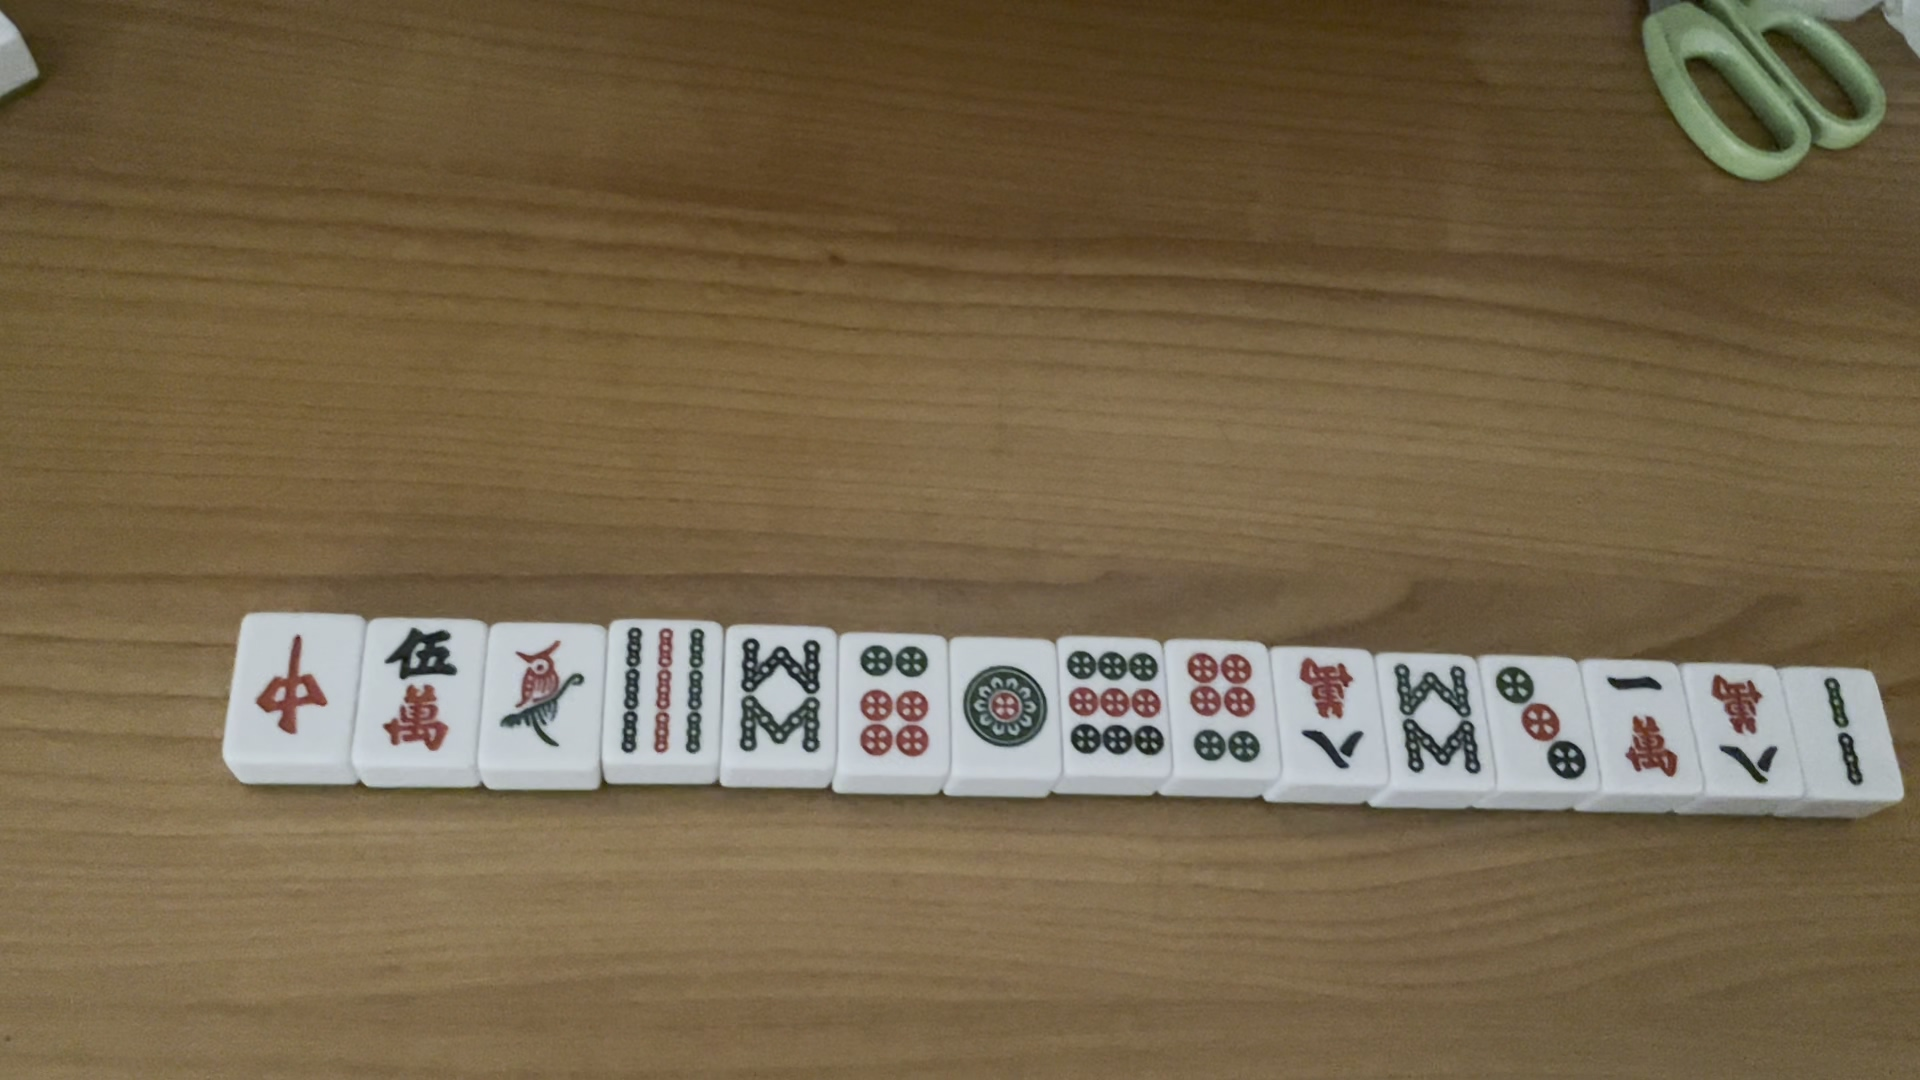b-1: (498, 621, 593, 760)
b-2: (1809, 669, 1874, 795)
b-8: (731, 625, 832, 760), (1391, 655, 1486, 785)
b-9: (611, 622, 709, 753)
c-1: (1604, 666, 1689, 789)
c-5: (371, 617, 462, 754)
c-8: (1291, 651, 1370, 771), (1710, 666, 1783, 791)
d-1: (960, 657, 1051, 760)
d-3: (1489, 659, 1593, 791)
d-6: (855, 638, 934, 764), (1187, 644, 1257, 769)
d-9: (1064, 646, 1171, 756)
honors-red: (249, 622, 332, 741)
